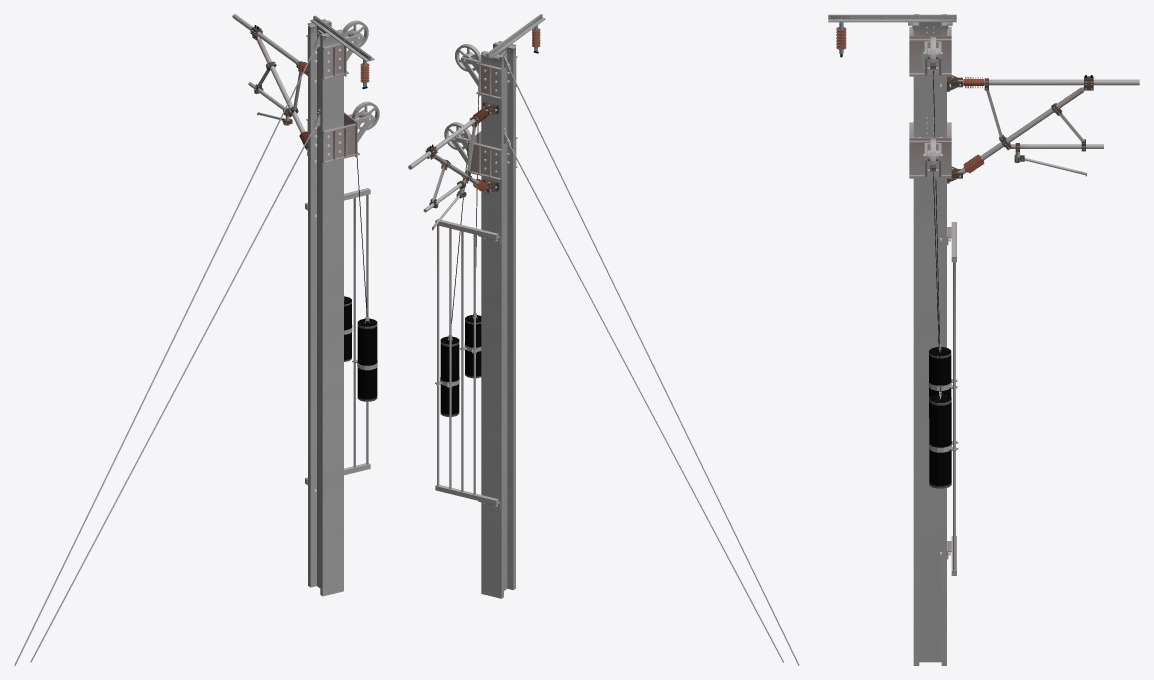
The model's file is catenary_short_counterweight_mirror.obj.
3 views of the same model, side by side, from view 1: azimuth 30°, elevation 25°; view 2: azimuth 150°, elevation 25°; view 3: azimuth 270°, elevation 25° (orthographic). The views are drawn at different scales.
Parts seen in each view (by area): view 1: cuboid, cylinder, tube; view 2: cuboid, cylinder, tube; view 3: cuboid, cylinder, tube.
Part boxes in pixels (x1,y1,x2,y2): cuboid: (14, 15, 375, 665); cylinder: (232, 14, 377, 491); tube: (343, 20, 379, 370); cuboid: (425, 14, 799, 665); cylinder: (408, 16, 542, 506); tube: (440, 44, 481, 386); cuboid: (828, 14, 1093, 665); cylinder: (829, 17, 1139, 570); tube: (928, 37, 951, 452).
Bounding box in the file's own units: 5.43 × 8.02 × 3.5.
Materials: 1 (1 with a texture image).
